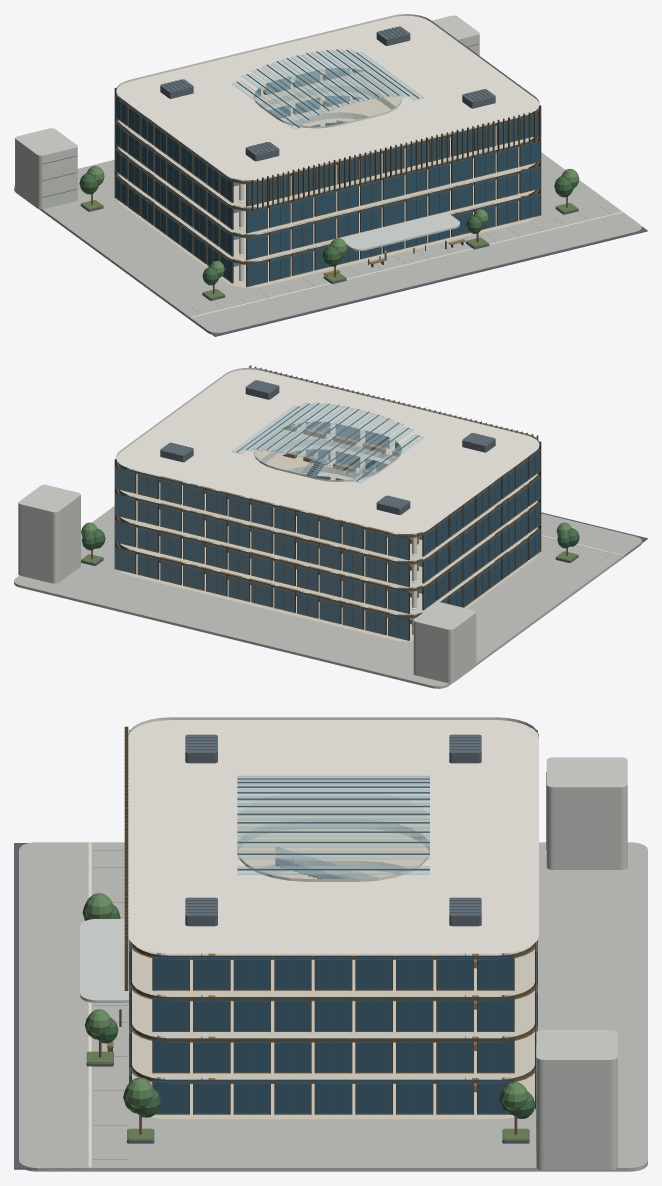
The model's file is toptani_concept.glb.
The picture shows the model from 3 angles, top to bottom: view 1: azimuth 30°, elevation 25°; view 2: azimuth 150°, elevation 25°; view 3: azimuth 270°, elevation 25°; orthographic projection. The views are drawn at different scales.
Parts seen in each view (by area): view 1: RetailA_Roof_Warm_Render, Site_Context_Paving, RetailA_Floor_02_Windows_Glass_Dark, RetailA_Floor_03_Windows_Glass_Dark, RetailA_Roof_Glass_Clear, RetailA_Floor_04_Windows_Glass_Dark, RetailA_Floor_01_Windows_Glass_Dark, Site_Context_Context, RetailA_Floor_04_Structure_Limestone, RetailA_Roof_Bronze, RetailA_Floor_03_Structure_Limestone, RetailA_Floor_02_Windows_Bronze (+24 smaller); view 2: RetailA_Roof_Warm_Render, Site_Context_Paving, Site_Context_Context, RetailA_Roof_Glass_Clear, RetailA_Floor_03_Windows_Glass_Blue, RetailA_Floor_04_Windows_Glass_Blue, RetailA_Floor_01_Windows_Glass_Blue, RetailA_Floor_02_Windows_Glass_Blue, RetailA_Floor_04_Structure_Limestone, RetailA_Floor_03_Structure_Limestone, RetailA_Floor_04_Windows_Bronze, RetailA_Floor_03_Windows_Bronze (+24 smaller); view 3: RetailA_Roof_Warm_Render, Site_Context_Paving, Site_Context_Context, RetailA_Roof_Glass_Clear, RetailA_Floor_04_Structure_Limestone, RetailA_Floor_02_Windows_Glass_Dark, RetailA_Floor_03_Structure_Limestone, RetailA_Floor_04_Windows_Glass_Dark, RetailA_Floor_03_Windows_Glass_Dark, RetailA_Floor_01_Windows_Glass_Dark, RetailA_Roof_Aluminium, RetailA_Floor_02_Structure_Limestone (+24 smaller).
Boxes of the visible parts, bbox=[...] form: RetailA_Roof_Warm_Render: bbox=[116, 14, 539, 180]; Site_Context_Paving: bbox=[14, 152, 641, 333]; RetailA_Floor_02_Windows_Glass_Dark: bbox=[115, 150, 540, 259]; RetailA_Floor_03_Windows_Glass_Dark: bbox=[115, 123, 540, 232]; RetailA_Roof_Glass_Clear: bbox=[232, 49, 423, 129]; RetailA_Floor_04_Windows_Glass_Dark: bbox=[115, 96, 538, 205]; RetailA_Floor_01_Windows_Glass_Dark: bbox=[115, 177, 540, 286]; Site_Context_Context: bbox=[15, 15, 479, 209]; RetailA_Floor_04_Structure_Limestone: bbox=[118, 68, 533, 207]; RetailA_Roof_Bronze: bbox=[251, 109, 540, 211]; RetailA_Floor_03_Structure_Limestone: bbox=[118, 96, 535, 234]; RetailA_Floor_02_Windows_Bronze: bbox=[114, 144, 541, 260]; RetailA_Roof_Warm_Render: bbox=[116, 367, 539, 533]; Site_Context_Paving: bbox=[14, 496, 641, 688]; Site_Context_Context: bbox=[18, 484, 476, 683]; RetailA_Roof_Glass_Clear: bbox=[232, 402, 423, 483]; RetailA_Floor_03_Windows_Glass_Blue: bbox=[115, 494, 408, 586]; RetailA_Floor_04_Windows_Glass_Blue: bbox=[115, 467, 408, 559]; RetailA_Floor_01_Windows_Glass_Blue: bbox=[115, 548, 408, 639]; RetailA_Floor_02_Windows_Glass_Blue: bbox=[115, 521, 408, 612]; RetailA_Floor_04_Structure_Limestone: bbox=[120, 422, 537, 560]; RetailA_Floor_03_Structure_Limestone: bbox=[120, 449, 537, 587]; RetailA_Floor_04_Windows_Bronze: bbox=[114, 441, 541, 560]; RetailA_Floor_03_Windows_Bronze: bbox=[114, 471, 541, 587]; RetailA_Roof_Warm_Render: bbox=[128, 717, 538, 953]; Site_Context_Paving: bbox=[19, 842, 647, 1171]; Site_Context_Context: bbox=[536, 757, 627, 1170]; RetailA_Roof_Glass_Clear: bbox=[237, 775, 429, 874]; RetailA_Floor_04_Structure_Limestone: bbox=[132, 793, 534, 995]; RetailA_Floor_02_Windows_Glass_Dark: bbox=[130, 1025, 513, 1072]; RetailA_Floor_03_Structure_Limestone: bbox=[132, 834, 534, 1036]; RetailA_Floor_04_Windows_Glass_Dark: bbox=[130, 941, 513, 989]; RetailA_Floor_03_Windows_Glass_Dark: bbox=[130, 984, 513, 1030]; RetailA_Floor_01_Windows_Glass_Dark: bbox=[130, 1067, 513, 1113]; RetailA_Roof_Aluminium: bbox=[186, 736, 480, 912]; RetailA_Floor_02_Structure_Limestone: bbox=[132, 876, 534, 1077].
Size of the model in its own units: 77 by 22.08 by 62.5.
